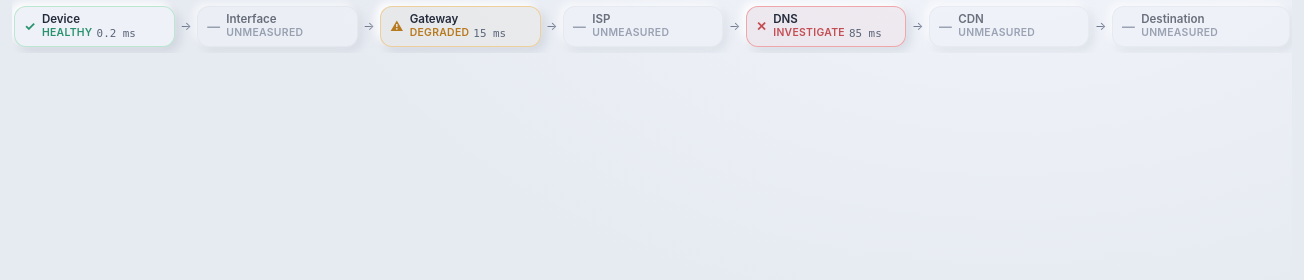
Scenario: DiagnosticChainStrip › handles and displays target_unavailable formatted status
Click the button "— CDN Unmeasured": (1009, 26) [929,6,1089,47]
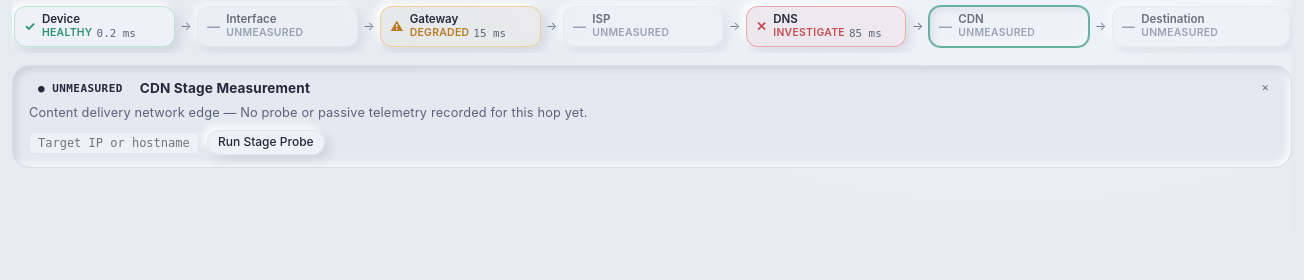
Click the button with test id "run-stage-probe-btn": (266, 143) [207,130,325,155]
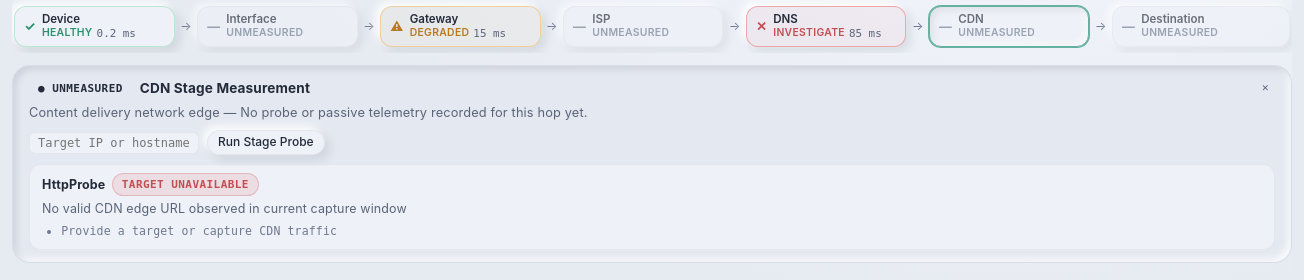
Expected: the element with test id "stage-probe-result" is shown, [29,164,1275,250]
Expected: the element with test id "stage-probe-result" shows "TARGET UNAVAILABLE", [122,178,249,191]
Expected: the element with test id "stage-probe-result" shows "No valid CDN edge URL observed in current capture window", [42,201,407,216]
